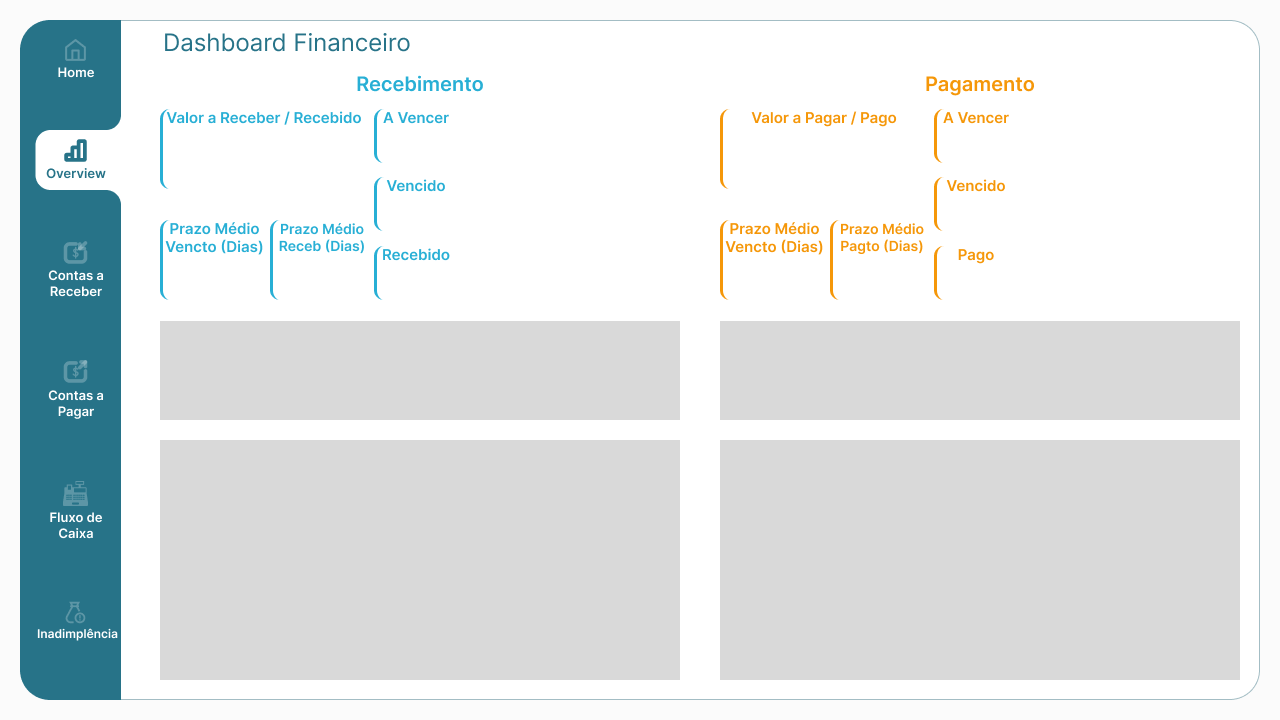

The page's visual inventory and layout, read from the dashboard file:
{"tool":"powerbi","page":{"name":"Overview","canvas":[1280,720],"ordinal":1},"visuals":[{"type":"card","fields":{"Values":["fTitulos.MediaVencimento"]},"box":[164,255,103,39],"z":0},{"type":"card","fields":{"Values":["fTitulos.MediaPgt"]},"box":[280,255,82,39],"z":1000},{"type":"card","fields":{"Values":["fTitulos.Soma"]},"box":[373.6,125.5,92.7,28.2],"z":2000},{"type":"card","fields":{"Values":["fTitulos.Soma"]},"box":[372.7,195.5,94.5,28.2],"z":3000},{"type":"card","fields":{"Values":["fTitulos.Soma"]},"box":[373.6,266.4,86.4,28.2],"z":4000},{"type":"card","fields":{"Values":["fTitulos.Soma"]},"box":[163.8,126.2,198.8,52.5],"z":5000},{"type":"tableEx","fields":{"Values":["dTerceiro.RazaoSocial","fTitulos.Valor"]},"box":[466.4,105.5,240,197.3],"z":6000},{"type":"clusteredColumnChart","fields":{"Y":["Sum(fTitulos.Valor)"],"Category":["Data.Date (compartimentos)"],"Series":["fTitulos.StatusTitulo"]},"box":[155.7,317.1,527.1,157.1],"z":7000},{"type":"lineChart","title":"Saldo Fluxo de Caixa","fields":{"Category":["Data.Date (compartimentos)"],"Y":["fExtratosBancarios.Saldo_Mes"]},"box":[155,474,528,210],"z":8000},{"type":"clusteredColumnChart","fields":{"Y":["Sum(fTitulos.Valor)"],"Category":["Data.Date (compartimentos)"],"Series":["fTitulos.StatusTitulo"]},"box":[714.3,317.1,528.6,157.1],"z":9000},{"type":"pivotTable","title":"Extrato Bancário","fields":{"Values":["fExtratosBancarios.Saldo_Inicial","Sum(fExtratosBancarios.Entrada)","Max(fExtratosBancarios.Saida)","fExtratosBancarios.Saldo_Final"],"Rows":["dContaBancaria.Banco","Data.Date (compartimentos)","Data.Date.Variation.Hierarquia de datas.Dia"]},"box":[706,474,537,210],"z":10000},{"type":"card","fields":{"Values":["fTitulos.MediaVencimento"]},"box":[722.6,257,103,39],"z":11000},{"type":"card","fields":{"Values":["fTitulos.MediaPgt"]},"box":[838.6,257,82,39],"z":12000},{"type":"card","fields":{"Values":["fTitulos.Soma"]},"box":[932.7,128.2,90.9,27.3],"z":13000},{"type":"card","fields":{"Values":["fTitulos.Soma"]},"box":[933.6,197.3,90.9,28.2],"z":14000},{"type":"card","fields":{"Values":["fTitulos.Soma"]},"box":[932.7,268.2,88.2,28.2],"z":15000},{"type":"card","fields":{"Values":["fTitulos.Soma"]},"box":[731.1,127.8,190,53.3],"z":16000},{"type":"tableEx","fields":{"Values":["dTerceiro.RazaoSocial","Sum(fTitulos.Valor)"]},"box":[1023.8,106.4,234.5,197.3],"z":17000},{"type":"actionButton","box":[40,31.4,70,52.1],"z":18000},{"type":"actionButton","box":[40,235,70,67.9],"z":19000},{"type":"actionButton","box":[40,355,70,67.9],"z":20000},{"type":"actionButton","box":[40,474.3,70,67.9],"z":21000},{"type":"actionButton","box":[27.9,588.6,92.1,67.9],"z":22000},{"type":"actionButton","title":"Botão_Filtro","box":[1138.8,26.2,105,40],"z":23000}]}

Visuals, with their boxes on the page's 1280x720 design canvas (x1, y1, x2, y2). These are canvas units, not pixel positions in the 1280x720 screenshot, which may show the page scaled, cropped or inside an application window:
card - fTitulos.MediaVencimento: <region>164, 255, 267, 294</region>
card - fTitulos.MediaPgt: <region>280, 255, 362, 294</region>
card - fTitulos.Soma: <region>374, 126, 466, 154</region>
card - fTitulos.Soma: <region>373, 196, 467, 224</region>
card - fTitulos.Soma: <region>374, 266, 460, 295</region>
card - fTitulos.Soma: <region>164, 126, 363, 179</region>
tableEx - dTerceiro.RazaoSocial x fTitulos.Valor: <region>466, 106, 706, 303</region>
clusteredColumnChart - Sum(fTitulos.Valor) x Data.Date (compartimentos): <region>156, 317, 683, 474</region>
"Saldo Fluxo de Caixa" lineChart: <region>155, 474, 683, 684</region>
clusteredColumnChart - Sum(fTitulos.Valor) x Data.Date (compartimentos): <region>714, 317, 1243, 474</region>
"Extrato Bancário" pivotTable: <region>706, 474, 1243, 684</region>
card - fTitulos.MediaVencimento: <region>723, 257, 826, 296</region>
card - fTitulos.MediaPgt: <region>839, 257, 921, 296</region>
card - fTitulos.Soma: <region>933, 128, 1024, 156</region>
card - fTitulos.Soma: <region>934, 197, 1024, 226</region>
card - fTitulos.Soma: <region>933, 268, 1021, 296</region>
card - fTitulos.Soma: <region>731, 128, 921, 181</region>
tableEx - dTerceiro.RazaoSocial x Sum(fTitulos.Valor): <region>1024, 106, 1258, 304</region>
actionButton: <region>40, 31, 110, 84</region>
actionButton: <region>40, 235, 110, 303</region>
actionButton: <region>40, 355, 110, 423</region>
actionButton: <region>40, 474, 110, 542</region>
actionButton: <region>28, 589, 120, 656</region>
"Botão_Filtro" actionButton: <region>1139, 26, 1244, 66</region>
